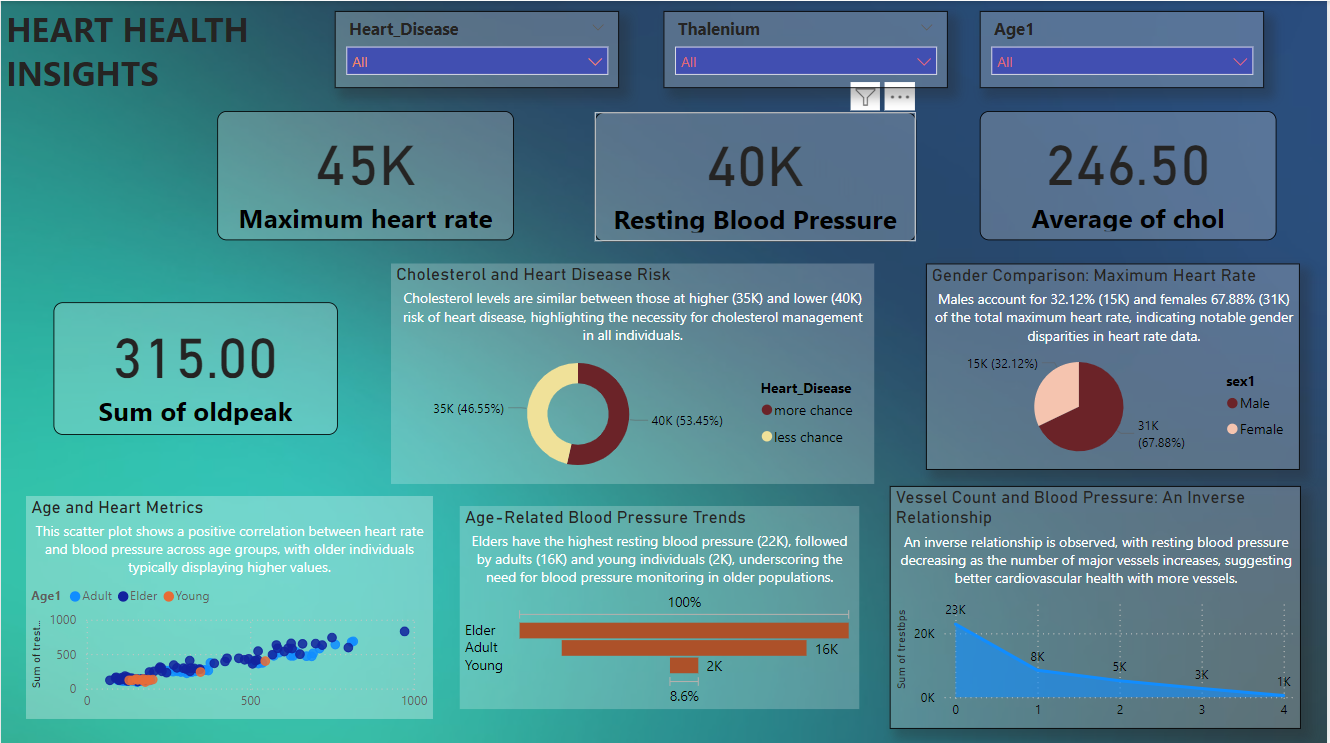

Layout of this report page (visuals, bound fields, positions):
{"tool":"powerbi","page":{"name":"Page 1","canvas":[1280,720],"ordinal":0},"visuals":[{"type":"textbox","box":[0,0,376,120.8],"z":0},{"type":"card","fields":{"Values":["Sum(Sheet1.thalach)"]},"box":[208.6,105.7,286.8,124.9],"z":1000},{"type":"card","fields":{"Values":["Sum(Sheet1.trestbps)"]},"box":[573.6,107,310.1,124.9],"z":2000},{"type":"card","fields":{"Values":["Avg(Sheet1.chol)"]},"box":[944.1,105.7,286.8,124.9],"z":3000},{"type":"card","fields":{"Values":["Sum(Sheet1.oldpeak)"]},"box":[50.8,290.9,274.4,127.6],"z":4000},{"type":"slicer","fields":{"Values":["Sheet1.Heart_Disease"]},"box":[322.5,9.6,274.4,74.1],"z":5000},{"type":"slicer","fields":{"Values":["Sheet1.Thalenium"]},"box":[639.5,9.6,274.4,74.1],"z":6000},{"type":"slicer","fields":{"Values":["Sheet1.Age1"]},"box":[944.1,9.6,274.4,74.1],"z":7000},{"type":"lineChart","title":"Vessel Count and Blood Pressure: An Inverse Relationship","fields":{"Category":["Sheet1.ca"],"Y":["Sum(Sheet1.trestbps)"]},"box":[857.6,467.9,396.6,234.6],"z":8000},{"type":"pieChart","title":"Gender Comparison: Maximum Heart Rate","fields":{"Category":["Sheet1.sex1"],"Y":["Sum(Sheet1.thalach)"]},"box":[893.3,253.9,360.9,199],"z":9000},{"type":"donutChart","title":"Cholesterol and Heart Disease Risk","fields":{"Y":["Sum(Sheet1.chol)"],"Category":["Sheet1.Heart_Disease"]},"box":[376,253.9,466.6,212.7],"z":10000},{"type":"funnel","title":"Age-Related Blood Pressure Trends","fields":{"Category":["Sheet1.Age1"],"Y":["Sum(Sheet1.trestbps)"]},"box":[443.2,487.1,385.6,196.2],"z":11000},{"type":"scatterChart","title":"Age and Heart Metrics","fields":{"X":["Sum(Sheet1.thalach)"],"Category":["Sheet1.thalach"],"Y":["Sum(Sheet1.trestbps)"],"Series":["Sheet1.Age1"]},"box":[24.7,477.5,392.5,215.4],"z":12000}]}

Visuals, with their boxes in screenshot pixels (x1, y1, x2, y2), scaled from the page's 1280x720 canvas onto the 1330x743 screenshot:
textbox: select_region(0, 0, 391, 125)
card - Sum(Sheet1.thalach): select_region(217, 109, 515, 238)
card - Sum(Sheet1.trestbps): select_region(596, 110, 918, 239)
card - Avg(Sheet1.chol): select_region(981, 109, 1279, 238)
card - Sum(Sheet1.oldpeak): select_region(53, 300, 338, 432)
slicer - Sheet1.Heart_Disease: select_region(335, 10, 620, 86)
slicer - Sheet1.Thalenium: select_region(664, 10, 950, 86)
slicer - Sheet1.Age1: select_region(981, 10, 1266, 86)
"Vessel Count and Blood Pressure: An Inverse Relationship" lineChart: select_region(891, 483, 1303, 725)
"Gender Comparison: Maximum Heart Rate" pieChart: select_region(928, 262, 1303, 467)
"Cholesterol and Heart Disease Risk" donutChart: select_region(391, 262, 876, 482)
"Age-Related Blood Pressure Trends" funnel: select_region(461, 503, 861, 705)
"Age and Heart Metrics" scatterChart: select_region(26, 493, 433, 715)
